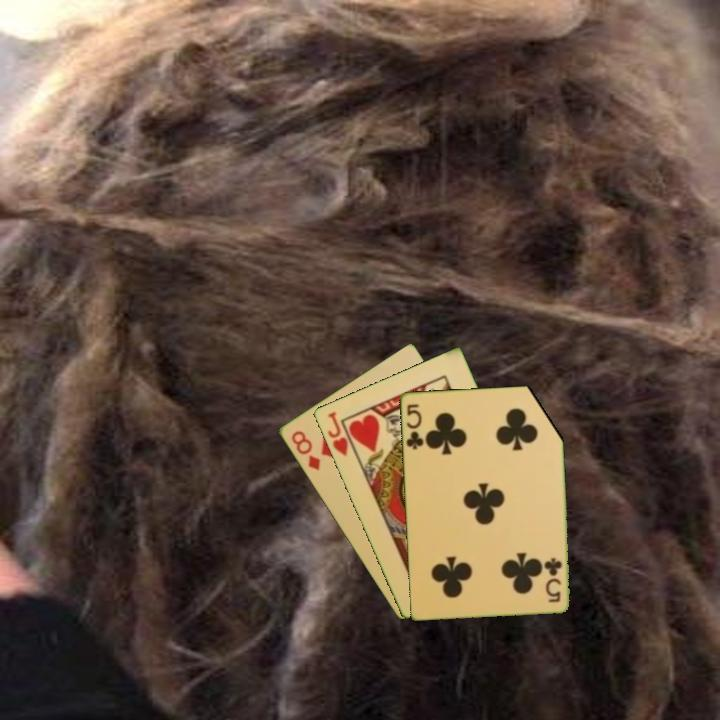5c: (402, 400, 426, 452), (543, 554, 564, 605)
8d: (287, 427, 323, 473)
Jh: (324, 408, 359, 459)
